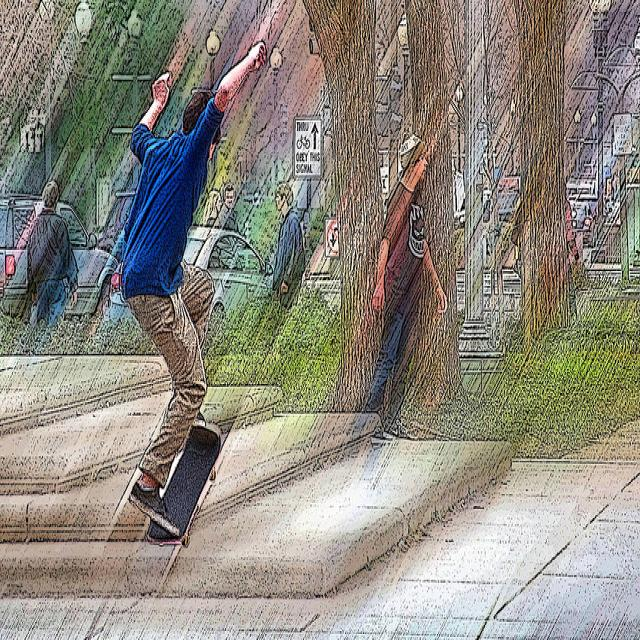Vehicle: (106, 226, 275, 333), (0, 193, 118, 319), (568, 184, 601, 231), (570, 212, 598, 248)
